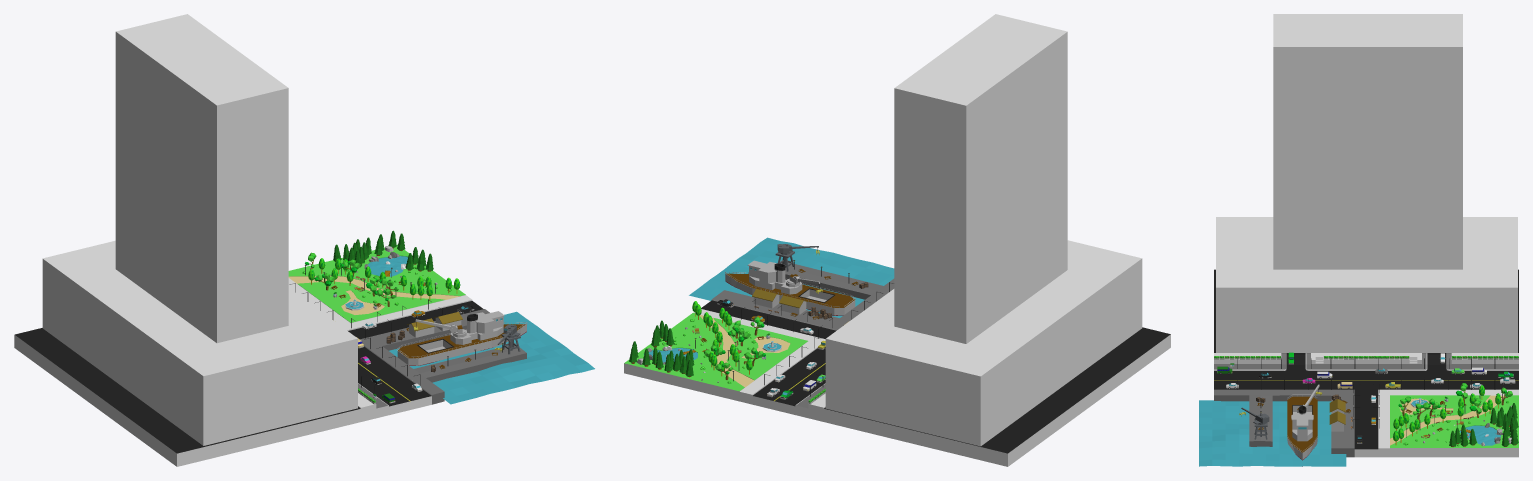
File: Low-poly-city.glb
3 renders of one model, left to right at view 1: azimuth 30°, elevation 25°; view 2: azimuth 150°, elevation 25°; view 3: azimuth 270°, elevation 25°, orthographic. The views are drawn at different scales.
Visible parts, largest first — view 1: HIT_B, HIT_A, Cube, Platform, Cago_Ship; view 2: HIT_B, HIT_A, Cube, Platform, Cago_Ship; view 3: HIT_B, HIT_A, Cube, Platform, Cago_Ship, Crane.
Boxes of the visible parts, left/top/right/bottom form: HIT_B: left=115, top=14, right=288, bottom=343; HIT_A: left=42, top=240, right=357, bottom=445; Cube: left=14, top=244, right=483, bottom=466; Platform: left=360, top=309, right=594, bottom=404; Cago_Ship: left=397, top=311, right=527, bottom=365; HIT_B: left=894, top=14, right=1067, bottom=343; HIT_A: left=825, top=240, right=1142, bottom=446; Cube: left=624, top=299, right=1170, bottom=466; Platform: left=689, top=237, right=894, bottom=329; Cago_Ship: left=725, top=260, right=855, bottom=315; HIT_B: left=1273, top=14, right=1462, bottom=269; HIT_A: left=1216, top=217, right=1517, bottom=352; Cube: left=1214, top=269, right=1518, bottom=457; Platform: left=1199, top=389, right=1354, bottom=466; Cago_Ship: left=1287, top=384, right=1322, bottom=466; Crane: left=1239, top=407, right=1269, bottom=439.
Size of the model in its own units: 29.35 by 22.15 by 21.13.
Materials: 56 (2 with a texture image).
